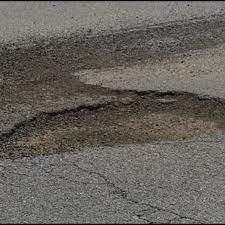crack: (3, 84, 225, 163)
